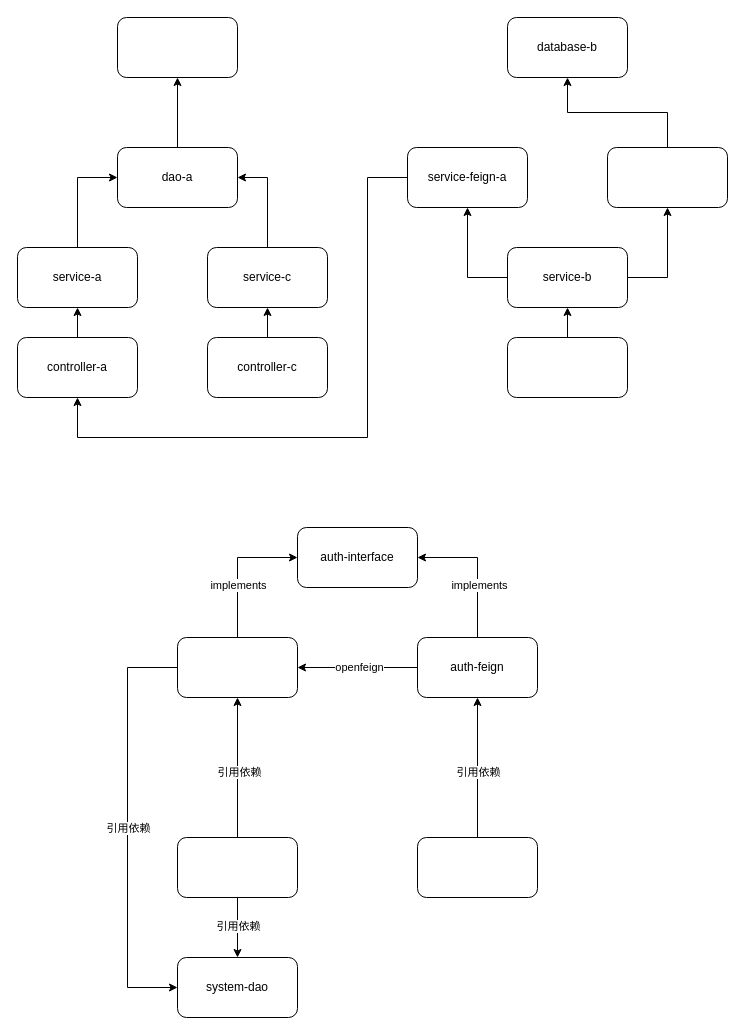
This 745x1035 diagram has some shape labels left out. Each missing label, with the box of its shape:
auth-core: (176, 636, 298, 698)
controller-b: (506, 336, 628, 398)
dao-b: (606, 146, 728, 208)
database-a: (116, 16, 238, 78)
other -module: (416, 836, 538, 898)
system-module: (176, 836, 298, 898)
